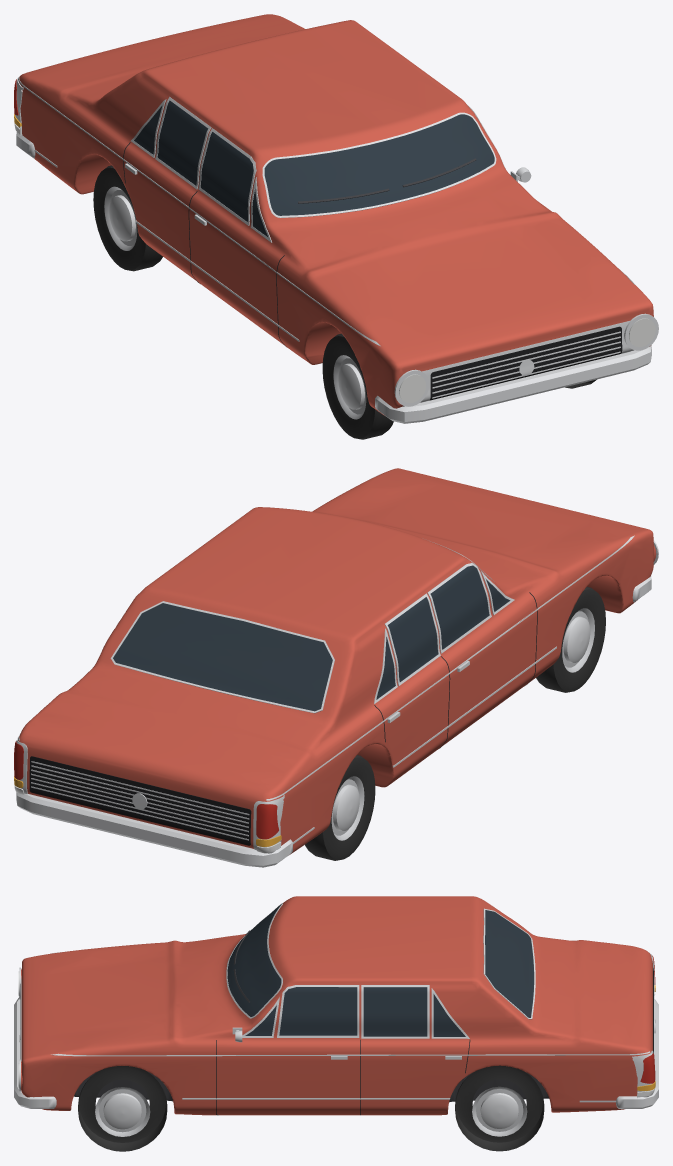
File: valiant.glb
3 renders of one model, top to bottom at view 1: azimuth 30°, elevation 25°; view 2: azimuth 150°, elevation 25°; view 3: azimuth 270°, elevation 25°, orthographic. The views are drawn at different scales.
Visible parts, largest first — view 1: paint, glass, trim, wheel_fr, wheel_rr, headlights; view 2: paint, glass, trim, wheel_fr, wheel_rr, taillights; view 3: paint, glass, trim, wheel_fl, wheel_rl, taillights.
Part boxes in pixels (x1=…): paint: x1=18, y1=14, x2=653, y2=415; glass: x1=134, y1=100, x2=494, y2=237; trim: x1=15, y1=76, x2=658, y2=423; wheel_fr: x1=322, y1=333, x2=393, y2=439; wheel_rr: x1=93, y1=165, x2=162, y2=271; headlights: x1=399, y1=318, x2=655, y2=403; paint: x1=18, y1=468, x2=653, y2=854; glass: x1=113, y1=565, x2=510, y2=711; trim: x1=16, y1=473, x2=658, y2=867; wheel_fr: x1=536, y1=587, x2=605, y2=692; wheel_rr: x1=305, y1=755, x2=375, y2=860; taillights: x1=14, y1=741, x2=278, y2=839; paint: x1=21, y1=896, x2=653, y2=1115; glass: x1=227, y1=904, x2=533, y2=1036; trim: x1=14, y1=903, x2=658, y2=1115; wheel_fl: x1=78, y1=1066, x2=167, y2=1151; wheel_rl: x1=455, y1=1065, x2=544, y2=1151; taillights: x1=640, y1=955, x2=655, y2=1083.
Bounding box in the file's own units: 1.83 × 1.36 × 4.63.
